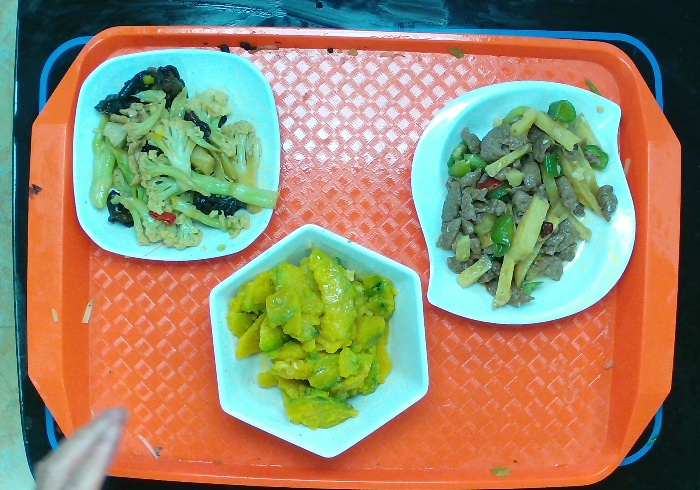RJxy-Liu_Jiao_Wan: (202, 218, 444, 464)
RJxy-Shuang_Jiao_Pan: (398, 74, 636, 333)
RJxy-Si_Fang_Wan: (65, 44, 284, 269)
